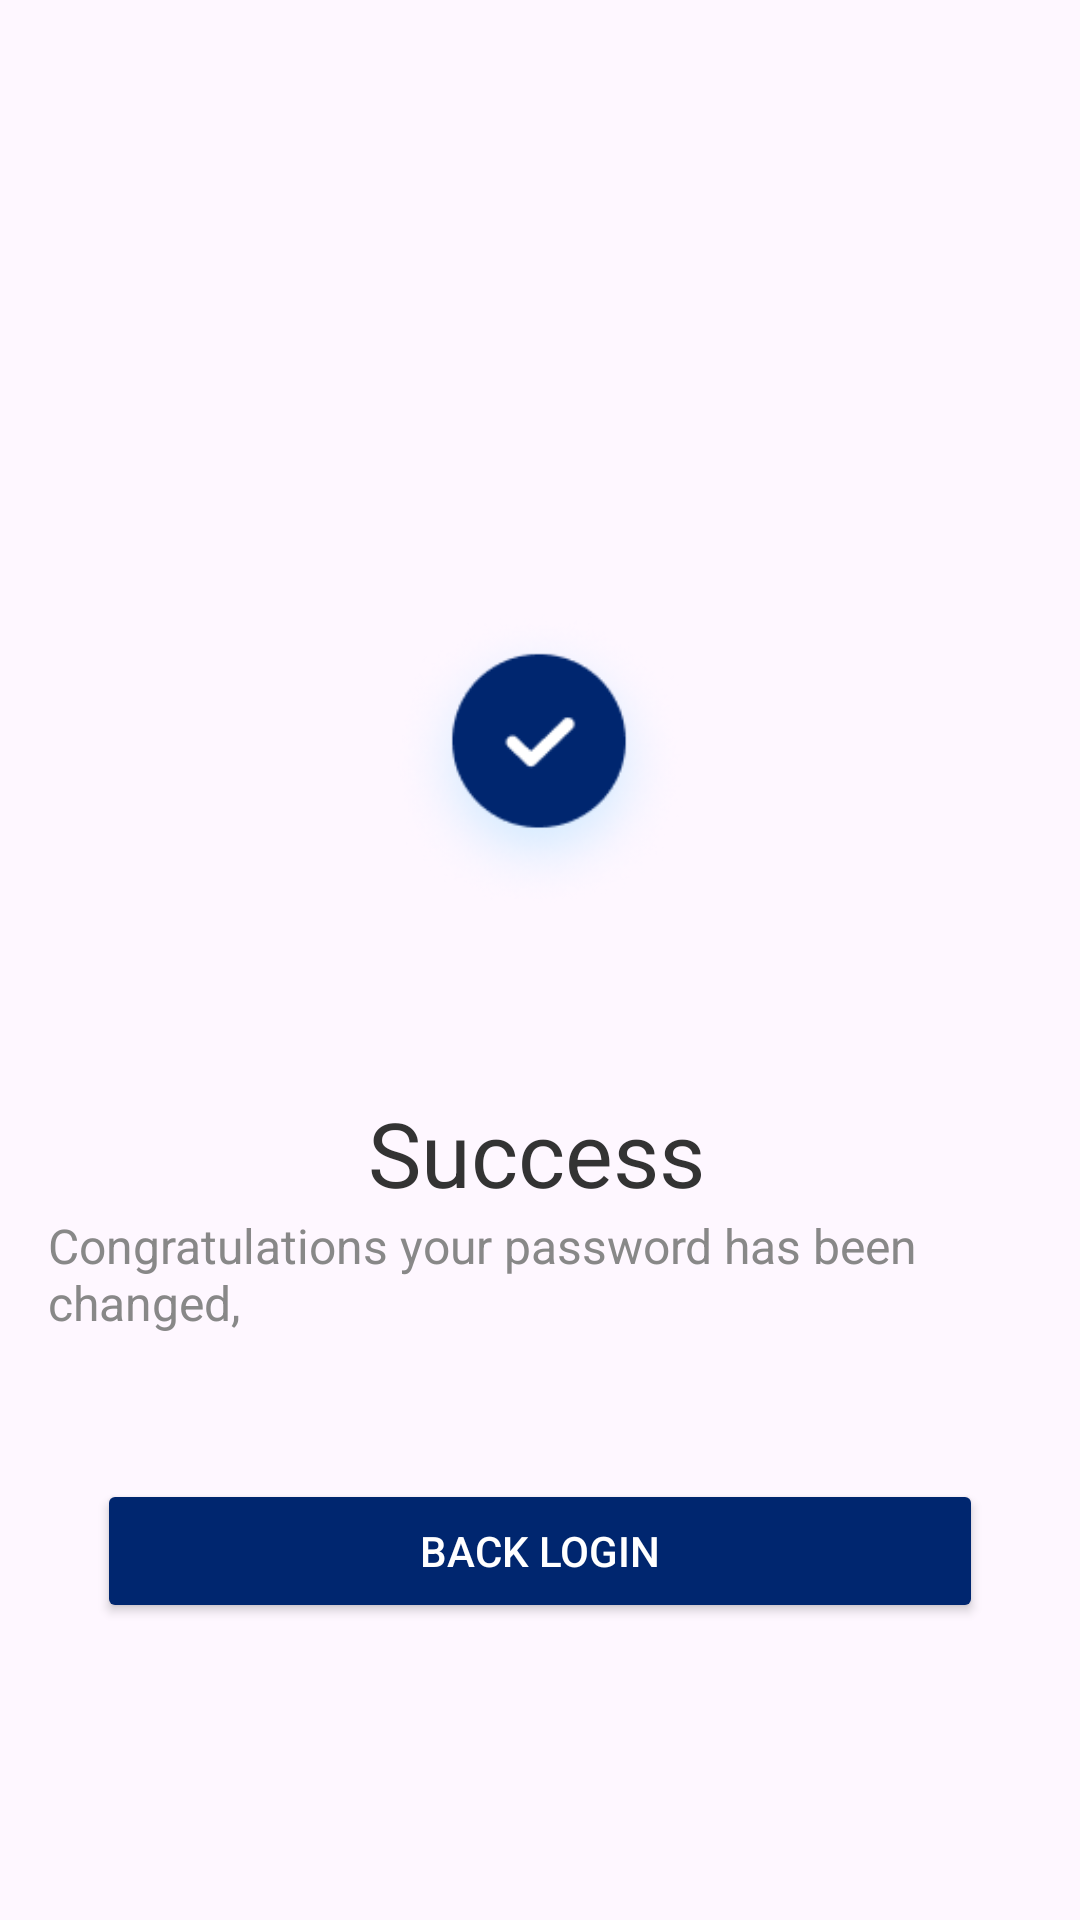

Named icons in this screenshot (1080px×1920px) and their bounding boxes, bbox=[x1, y1, x2, y2]:
success: bbox=[451, 653, 627, 844]
